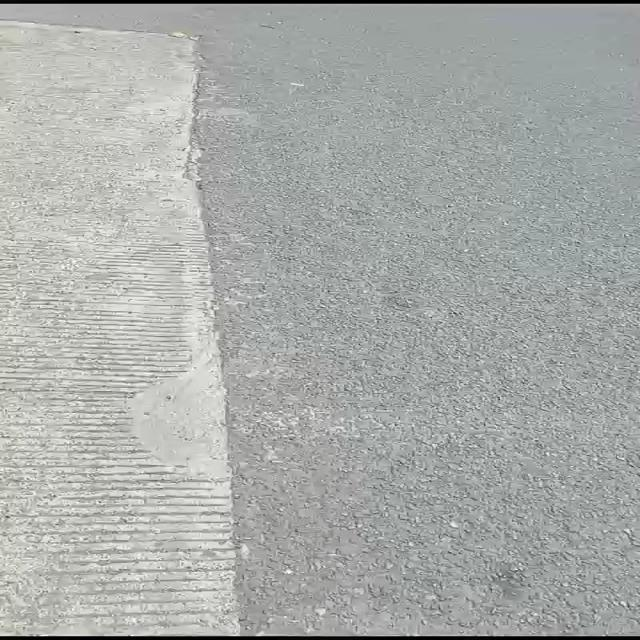Sambungan: (0, 17, 245, 640)
